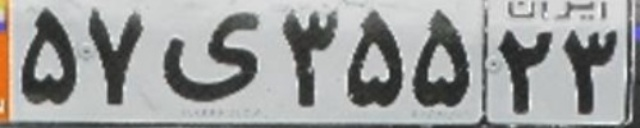2: (497, 28, 552, 114)
3: (279, 8, 339, 108), (559, 28, 617, 114)
5: (21, 5, 78, 105), (346, 9, 404, 107), (414, 6, 469, 107)
7: (86, 8, 145, 105)
ye: (160, 12, 260, 102)
